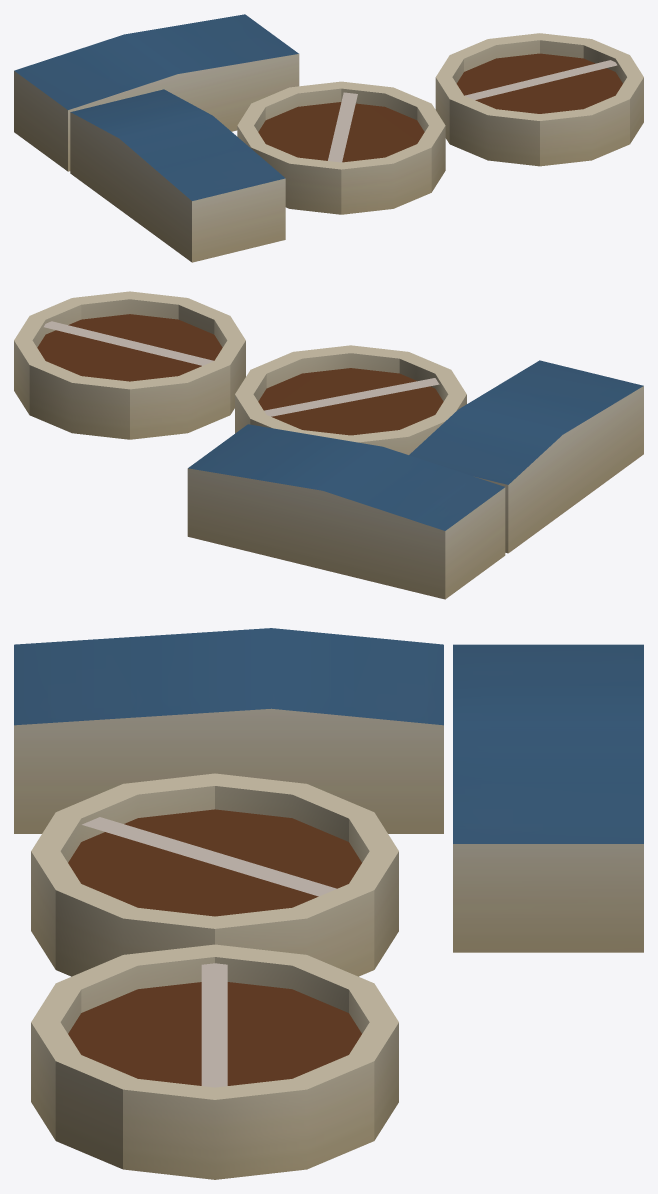
File: SM_Blockout_WaterTreatment.fbx
3 views of the same model, one above another, from view 1: azimuth 30°, elevation 25°; view 2: azimuth 150°, elevation 25°; view 3: azimuth 270°, elevation 25° (orthographic). The views are drawn at different scales.
Parts seen in each view (by area): view 1: SM_Blockout_WaterTreatment; view 2: SM_Blockout_WaterTreatment; view 3: SM_Blockout_WaterTreatment.
Boxes of the visible parts, x1=… form: SM_Blockout_WaterTreatment: x1=14, y1=14, x2=643, y2=262; SM_Blockout_WaterTreatment: x1=14, y1=291, x2=643, y2=599; SM_Blockout_WaterTreatment: x1=14, y1=628, x2=643, y2=1179.
Bounding box in the file's own units: 6.87 × 0.9404 × 4.29.
